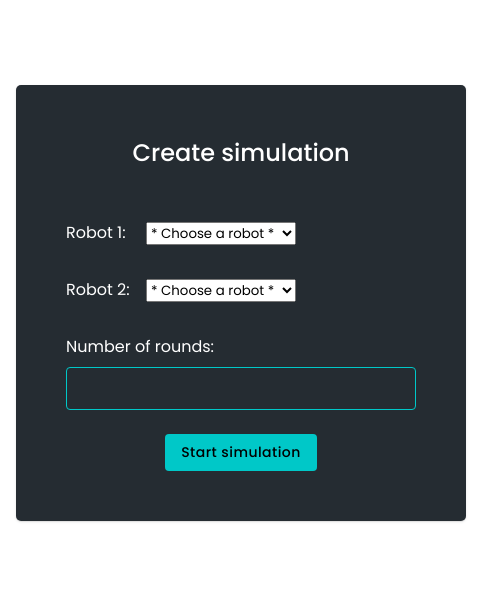
Test: Sim Creation test › 2. New sim without robot 1
Step 1. Select "Soyunrobot" in the dropdown with test id "nameRobot2" → [221, 290], box [146,279,296,302]
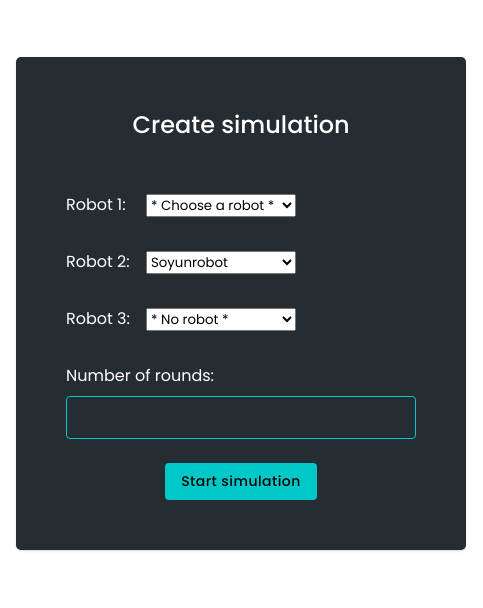
Step 2. Select "Soyotrorobot" in the dropdown with test id "nameRobot3" → [221, 319], box [146,308,296,330]
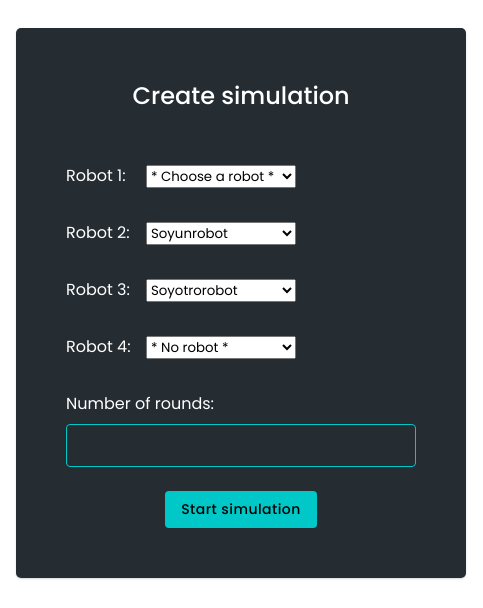
Step 3. Type "5" into the field with test id "nRounds" → [241, 446], box [66,424,416,467]
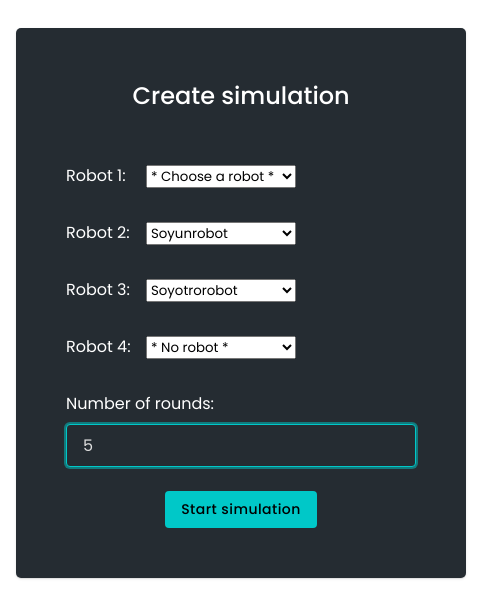
Step 4. Click the button with test id "submit" → [241, 510], box [165,491,317,528]
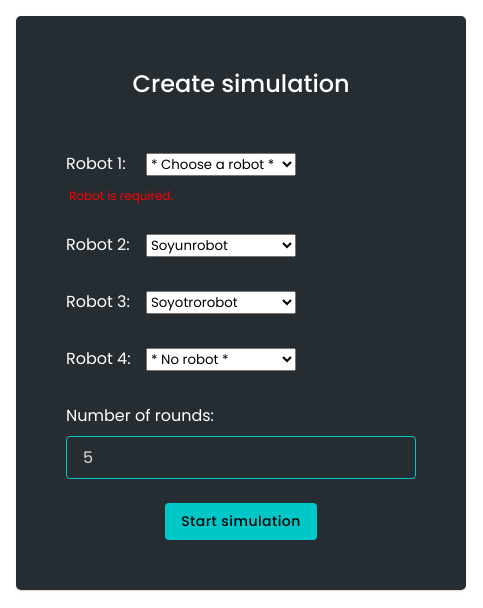
Check: the text with test id "requiredRobot1" reads "Robot is required.", box [69,187,173,204]
